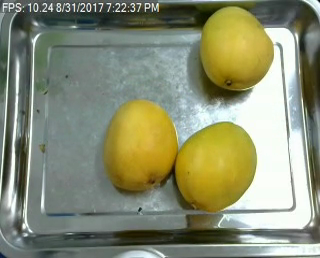Mango: (173, 121, 257, 211), (102, 98, 178, 189), (200, 6, 274, 90)
